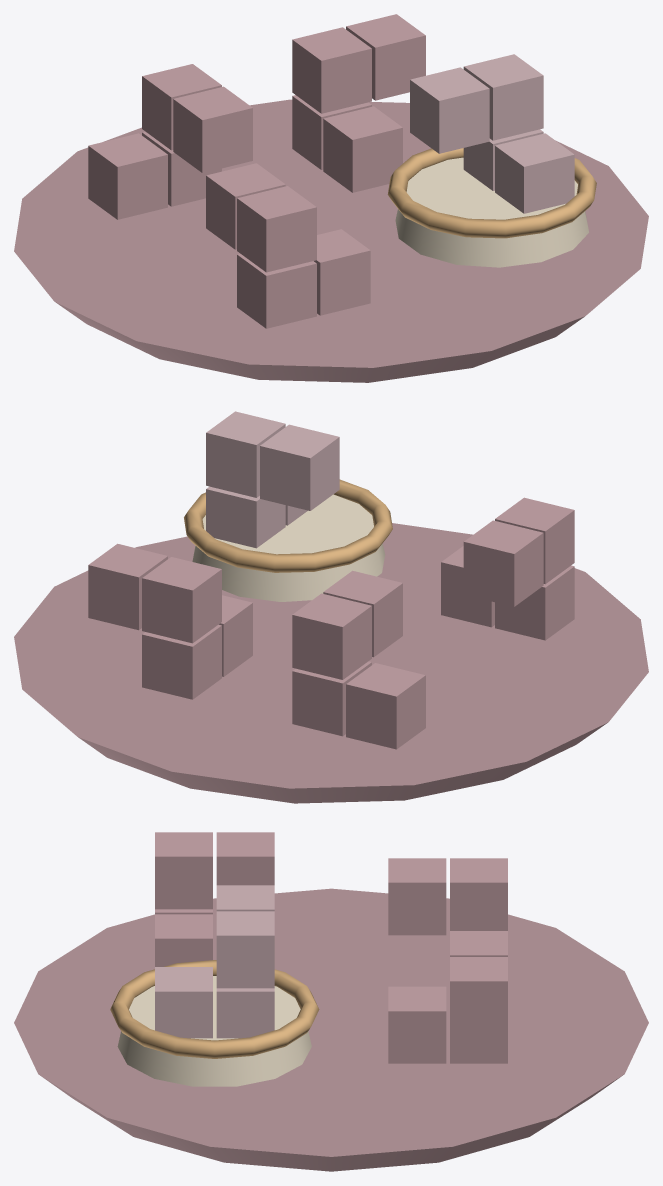
The model's file is party_mg26_mirror_twins.glb.
3 renders of one model, top to bottom at view 1: azimuth 30°, elevation 25°; view 2: azimuth 150°, elevation 25°; view 3: azimuth 270°, elevation 25°, orthographic.
Visible parts, largest first — view 1: _MeshInstance3D_80, _MeshInstance3D_97, _MeshInstance3D_98, _MeshInstance3D_82, _MeshInstance3D_89, _MeshInstance3D_102, _MeshInstance3D_94, _MeshInstance3D_85, _MeshInstance3D_87, _MeshInstance3D_99, _MeshInstance3D_93, _MeshInstance3D_101 (+7 smaller); view 2: _MeshInstance3D_80, _MeshInstance3D_97, _MeshInstance3D_95, _MeshInstance3D_98, _MeshInstance3D_82, _MeshInstance3D_84, _MeshInstance3D_89, _MeshInstance3D_102, _MeshInstance3D_88, _MeshInstance3D_101, _MeshInstance3D_90, _MeshInstance3D_100 (+6 smaller); view 3: _MeshInstance3D_80, _MeshInstance3D_97, _MeshInstance3D_98, _MeshInstance3D_85, _MeshInstance3D_87, _MeshInstance3D_101, _MeshInstance3D_94, _MeshInstance3D_90, _MeshInstance3D_84, _MeshInstance3D_99, _MeshInstance3D_95, _MeshInstance3D_100 (+4 smaller).
Boxes of the visible parts, box(x1,y1,x2,y2) form: _MeshInstance3D_80: box(14, 99, 648, 382); _MeshInstance3D_97: box(395, 157, 588, 267); _MeshInstance3D_98: box(387, 148, 596, 238); _MeshInstance3D_82: box(88, 133, 167, 219); _MeshInstance3D_89: box(292, 27, 371, 113); _MeshInstance3D_102: box(410, 67, 489, 153); _MeshInstance3D_94: box(237, 186, 316, 272); _MeshInstance3D_85: box(173, 86, 252, 172); _MeshInstance3D_87: box(323, 106, 402, 192); _MeshInstance3D_99: box(495, 133, 574, 213); _MeshInstance3D_93: box(237, 254, 316, 328); _MeshInstance3D_101: box(463, 54, 543, 140); _MeshInstance3D_80: box(14, 523, 648, 803); _MeshInstance3D_97: box(192, 494, 385, 601); _MeshInstance3D_95: box(463, 520, 543, 606); _MeshInstance3D_98: box(184, 479, 392, 572); _MeshInstance3D_82: box(346, 663, 425, 749); _MeshInstance3D_84: box(292, 593, 371, 679); _MeshInstance3D_89: box(142, 557, 221, 643); _MeshInstance3D_102: box(260, 424, 339, 510); _MeshInstance3D_88: box(142, 624, 221, 699); _MeshInstance3D_101: box(206, 411, 285, 497); _MeshInstance3D_90: box(88, 543, 167, 630); _MeshInstance3D_100: box(206, 486, 285, 548); _MeshInstance3D_80: box(14, 888, 648, 1171); _MeshInstance3D_97: box(117, 976, 311, 1086); _MeshInstance3D_98: box(110, 960, 319, 1058); _MeshInstance3D_85: box(388, 858, 446, 935); _MeshInstance3D_87: box(388, 986, 446, 1063); _MeshInstance3D_101: box(216, 911, 274, 988); _MeshInstance3D_94: box(155, 832, 212, 909); _MeshInstance3D_90: box(450, 957, 507, 1033); _MeshInstance3D_84: box(450, 858, 507, 930); _MeshInstance3D_99: box(155, 967, 212, 1038); _MeshInstance3D_95: box(216, 832, 274, 885); _MeshInstance3D_100: box(216, 988, 274, 1038).
Bounding box in the file's own units: 3.4 × 1.14 × 3.4.
